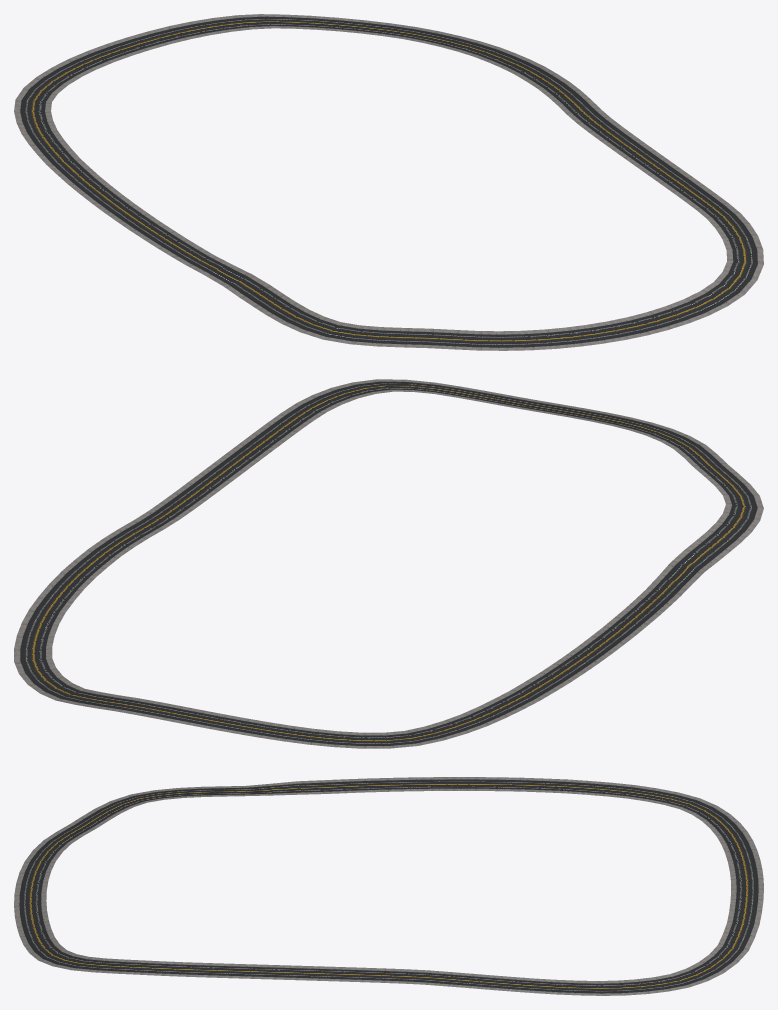
The model's file is racetrack.obj.
3 renders of one model, top to bottom at view 1: azimuth 30°, elevation 25°; view 2: azimuth 150°, elevation 25°; view 3: azimuth 270°, elevation 25°, orthographic. The views are drawn at different scales.
Parts seen in each view (by area): view 1: ROAD_TILE_Plane.009; view 2: ROAD_TILE_Plane.009; view 3: ROAD_TILE_Plane.009.
Part boxes in pixels (box(x1,y1,x2,y2)): ROAD_TILE_Plane.009: box(14, 14, 763, 350); ROAD_TILE_Plane.009: box(14, 379, 763, 748); ROAD_TILE_Plane.009: box(14, 777, 763, 995).
Bounding box in the file's own units: 455 × 23.69 × 685.
Materials: 2 (2 with a texture image).
